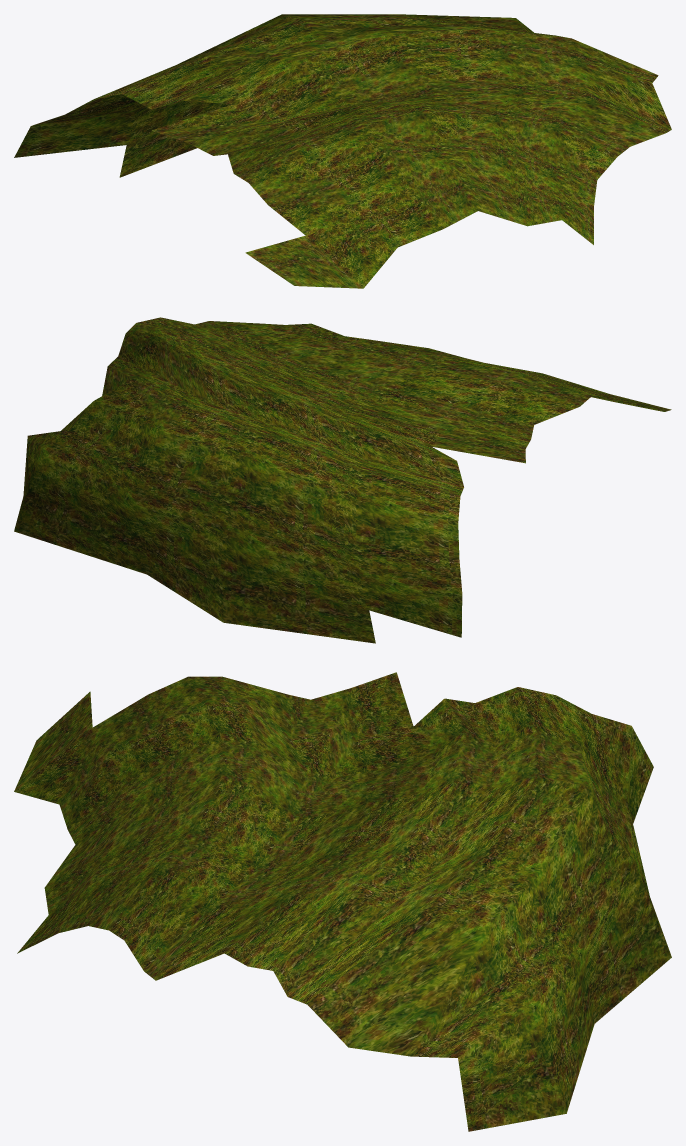
The model's file is TROLLHOLE02_LUKEGROUND04.fbx.
3 renders of one model, top to bottom at view 1: azimuth 30°, elevation 25°; view 2: azimuth 150°, elevation 25°; view 3: azimuth 270°, elevation 25°, orthographic. The views are drawn at different scales.
Visible parts, largest first — view 1: TROLLHOLE02_LUKEGROUND04; view 2: TROLLHOLE02_LUKEGROUND04; view 3: TROLLHOLE02_LUKEGROUND04.
Part boxes in pixels (x1,y1,x2,y2): TROLLHOLE02_LUKEGROUND04: [14, 14, 671, 288]; TROLLHOLE02_LUKEGROUND04: [14, 317, 671, 643]; TROLLHOLE02_LUKEGROUND04: [14, 672, 671, 1131].
Size of the model in its own units: 295213 by 86736 by 257627.
Materials: 1 (1 with a texture image).
